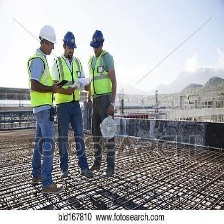helmet: (40, 24, 58, 48), (64, 30, 77, 51), (90, 32, 107, 48)
person: (27, 21, 64, 195), (58, 29, 93, 181), (85, 27, 120, 177)
vest: (29, 52, 54, 112), (57, 57, 82, 105), (90, 57, 112, 95)
